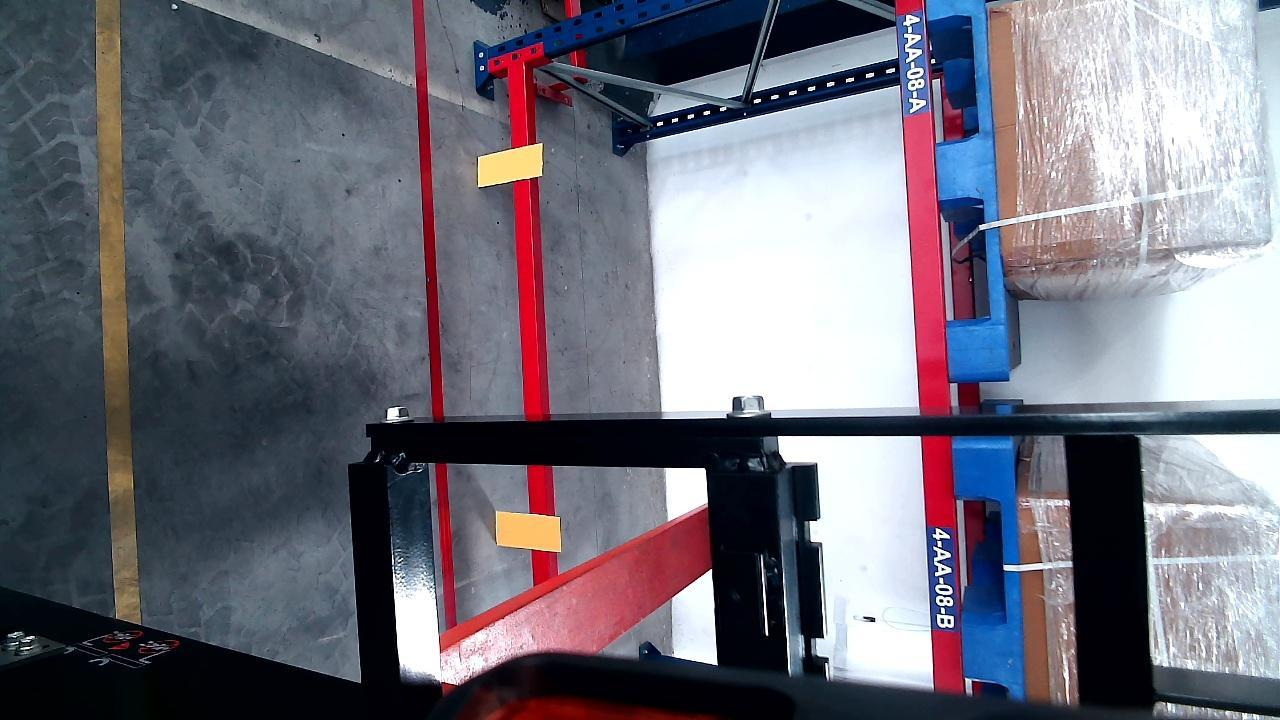red_line: (414, 0, 453, 639)
yellow_line: (94, 0, 140, 625)
